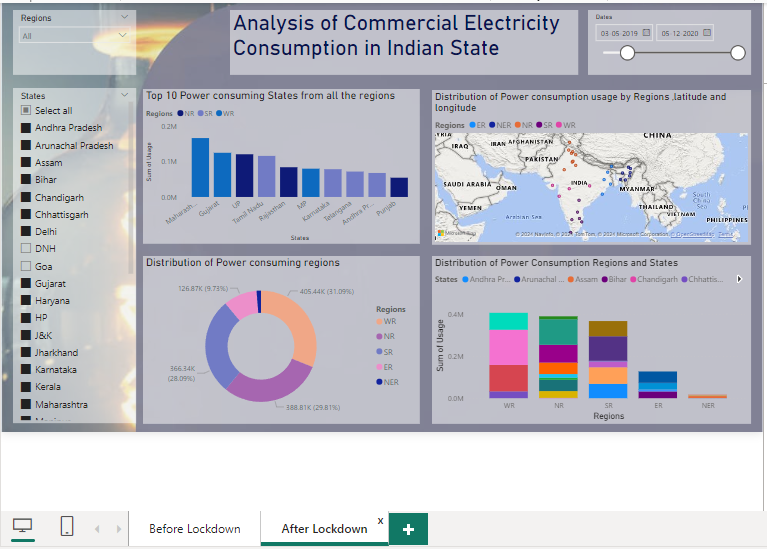

What the dashboard file says about the page in this screenshot:
{"tool":"powerbi","page":{"name":"After Lockdown","canvas":[1280,720],"ordinal":1},"visuals":[{"type":"textbox","title":"Analysis of Commercial Electricity Consumption in Indian State","box":[384.7,11.8,584.6,109.2],"z":0},{"type":"slicer","fields":{"Values":["2_data.Regions"]},"box":[20.2,11.8,206.6,109.2],"z":1000},{"type":"columnChart","title":"Top 10 Power consuming States from all the regions","fields":{"Category":["2_data.States"],"Y":["Sum(2_data.Usage)"],"Series":["2_data.Regions"]},"box":[238.5,144.5,465.3,260.4],"z":2000},{"type":"donutChart","title":"Distribution of Power consuming regions","fields":{"Y":["Sum(2_data.Usage)"],"Category":["2_data.Regions"]},"box":[238.5,425,465.3,282.2],"z":3000},{"type":"slicer","fields":{"Values":["2_data.Dates"]},"box":[986,11.8,273.8,109.2],"z":4000},{"type":"map","title":"Distribution of Power consumption usage by Regions ,latitude and longitude","fields":{"Y":["2_data.latitude"],"X":["2_data.longitude"],"Series":["2_data.Regions"]},"box":[724,146.1,535.9,260.4],"z":5000},{"type":"columnChart","title":"Distribution of Power Consumption Regions and States","fields":{"Y":["Sum(2_data.Usage)"],"Category":["2_data.Regions"],"Series":["2_data.States"]},"box":[724,425,535.9,282.2],"z":6000},{"type":"slicer","fields":{"Values":["2_data.States"]},"box":[20.2,142.8,206.6,562.7],"z":7000}]}

Visuals, with their boxes on the page's 1280x720 design canvas (x1, y1, x2, y2). These are canvas units, not pixel positions in the 767x549 screenshot, which may show the page scaled, cropped or inside an application window:
"Analysis of Commercial Electricity Consumption in Indian State" textbox: left=385, top=12, right=969, bottom=121
slicer - 2_data.Regions: left=20, top=12, right=227, bottom=121
"Top 10 Power consuming States from all the regions" columnChart: left=238, top=144, right=704, bottom=405
"Distribution of Power consuming regions" donutChart: left=238, top=425, right=704, bottom=707
slicer - 2_data.Dates: left=986, top=12, right=1260, bottom=121
"Distribution of Power consumption usage by Regions ,latitude and longitude" map: left=724, top=146, right=1260, bottom=406
"Distribution of Power Consumption Regions and States" columnChart: left=724, top=425, right=1260, bottom=707
slicer - 2_data.States: left=20, top=143, right=227, bottom=706
